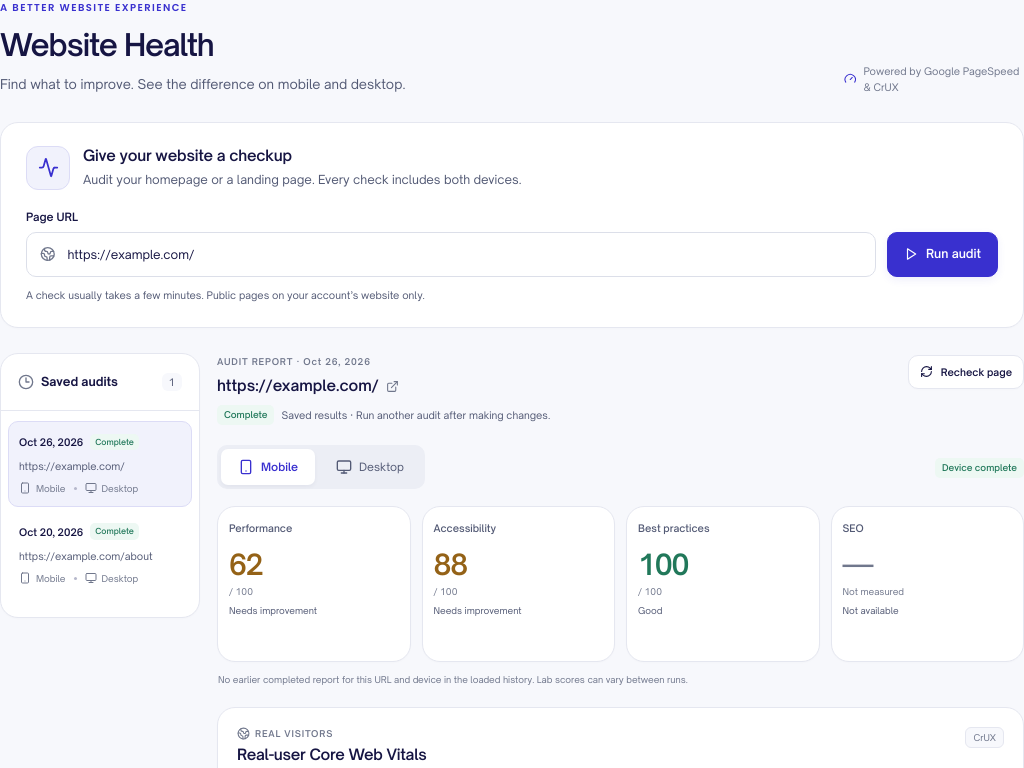
Website Health reports › preserves a report selected from history when newer results arrive
Step 1. Click the button with class "health-history-item" that starts with "Oct 20, 2026" → [100, 554], box left=8, top=510, right=192, bottom=597
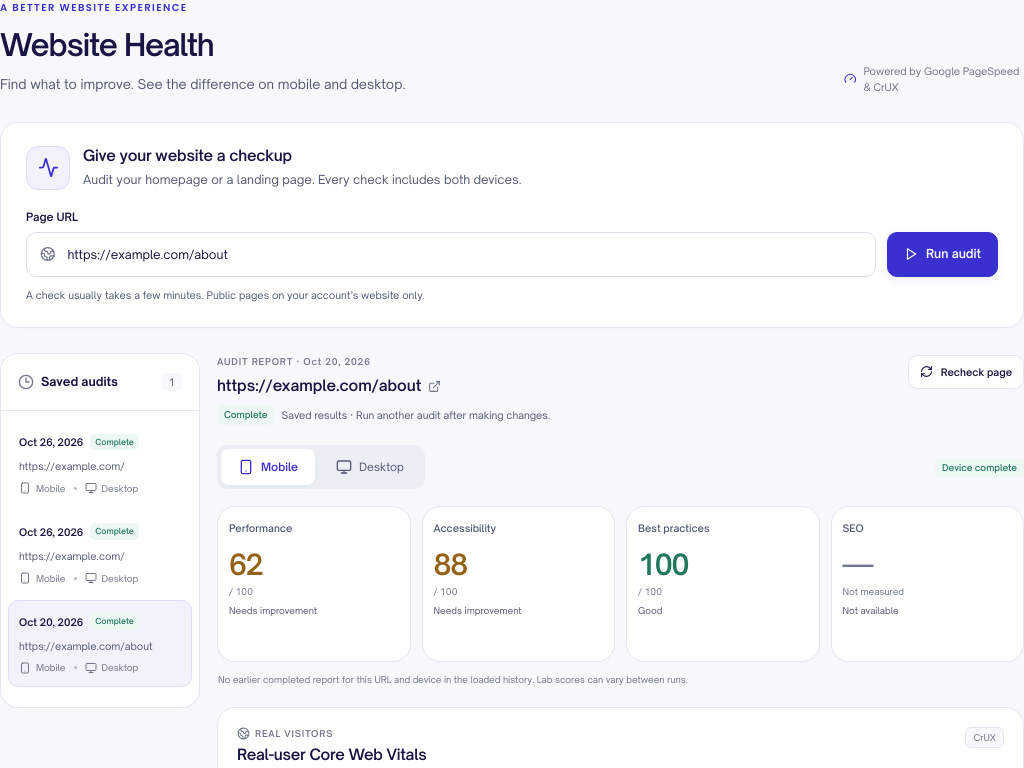
Expected: the button with class "health-history-item" shows "https://example.com/about", left=8, top=600, right=192, bottom=687
Expected: the field with id "health-page-url" holds "https://example.com/about", left=66, top=233, right=862, bottom=276
Expected: the heading "https://example.com/about" is shown, left=217, top=376, right=441, bottom=395
